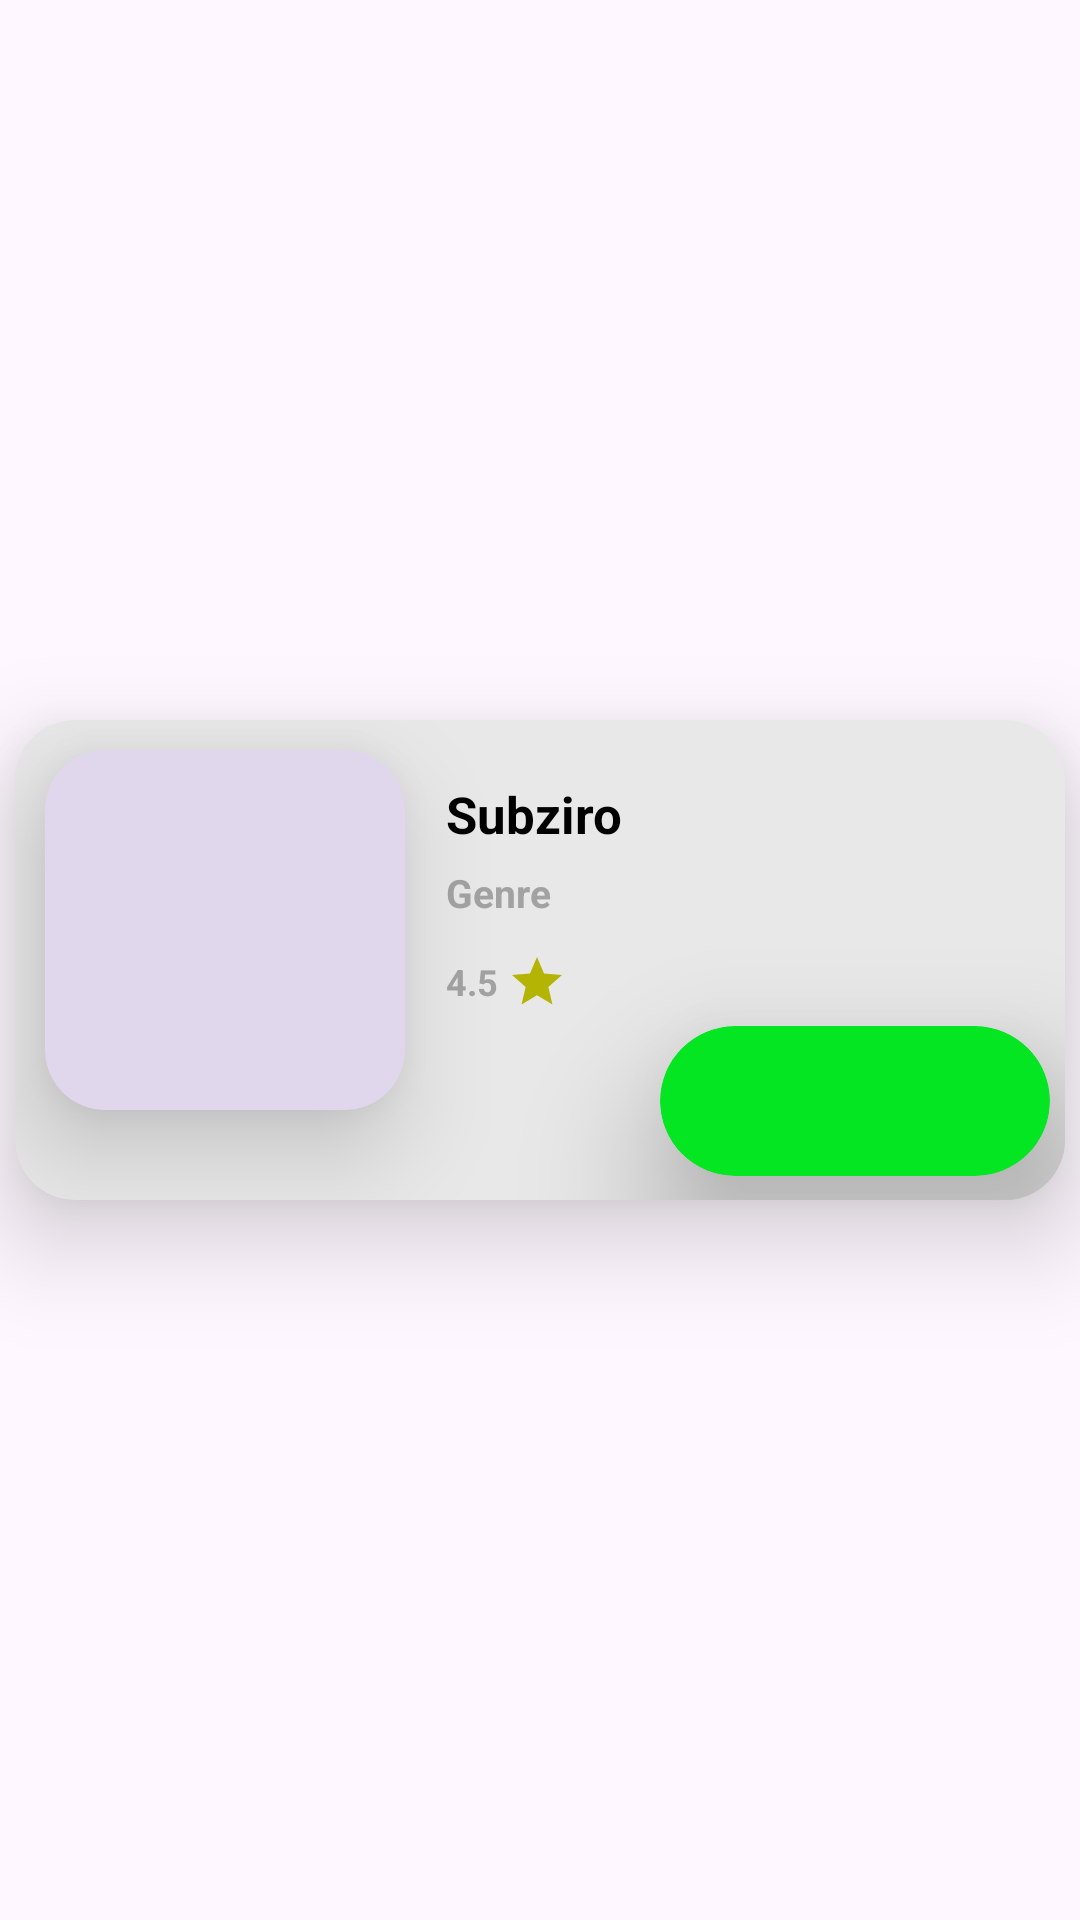

Icons on this 1080w x 1920h Android screen, each with its box as [x1=x1, y1=y1, x2=x2, y2=y2]:
rate: [x1=512, y1=957, x2=562, y2=1005]
